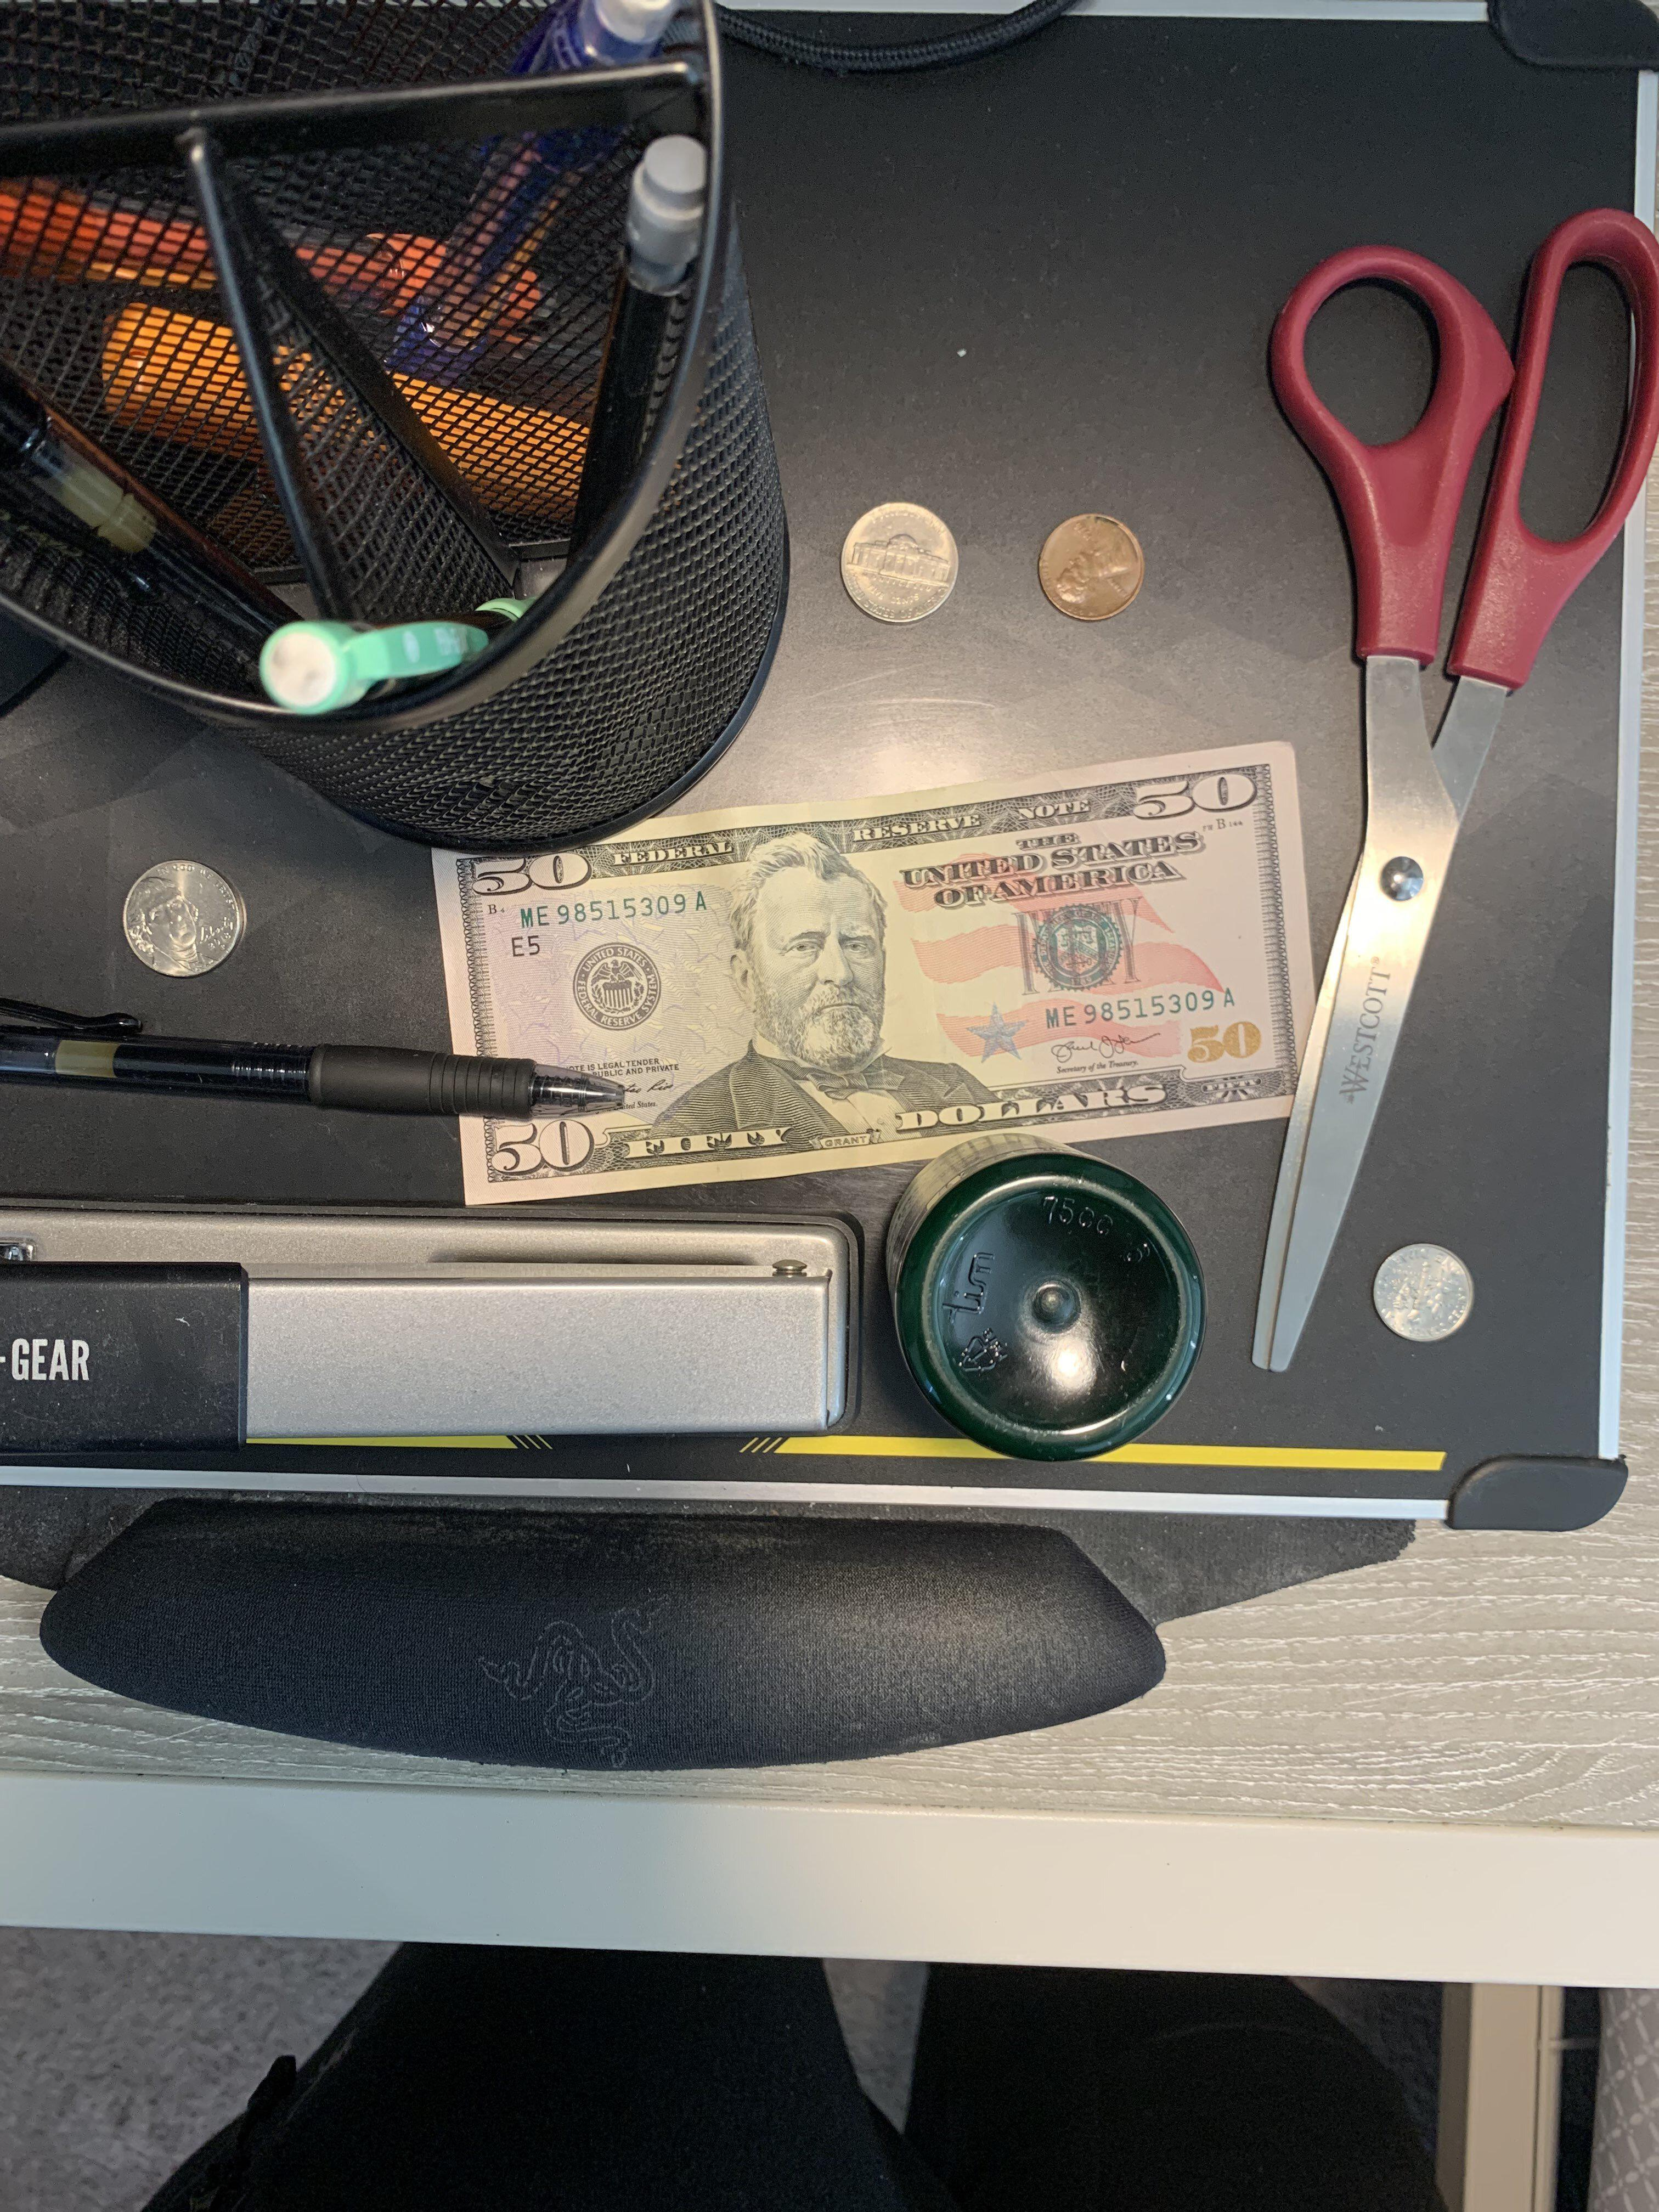Dime: (1363, 1226, 1488, 1350)
FiftyBill: (387, 723, 1349, 1251)
Nickel: (87, 826, 274, 991), (821, 475, 972, 644)
Penny: (1018, 488, 1182, 644)
